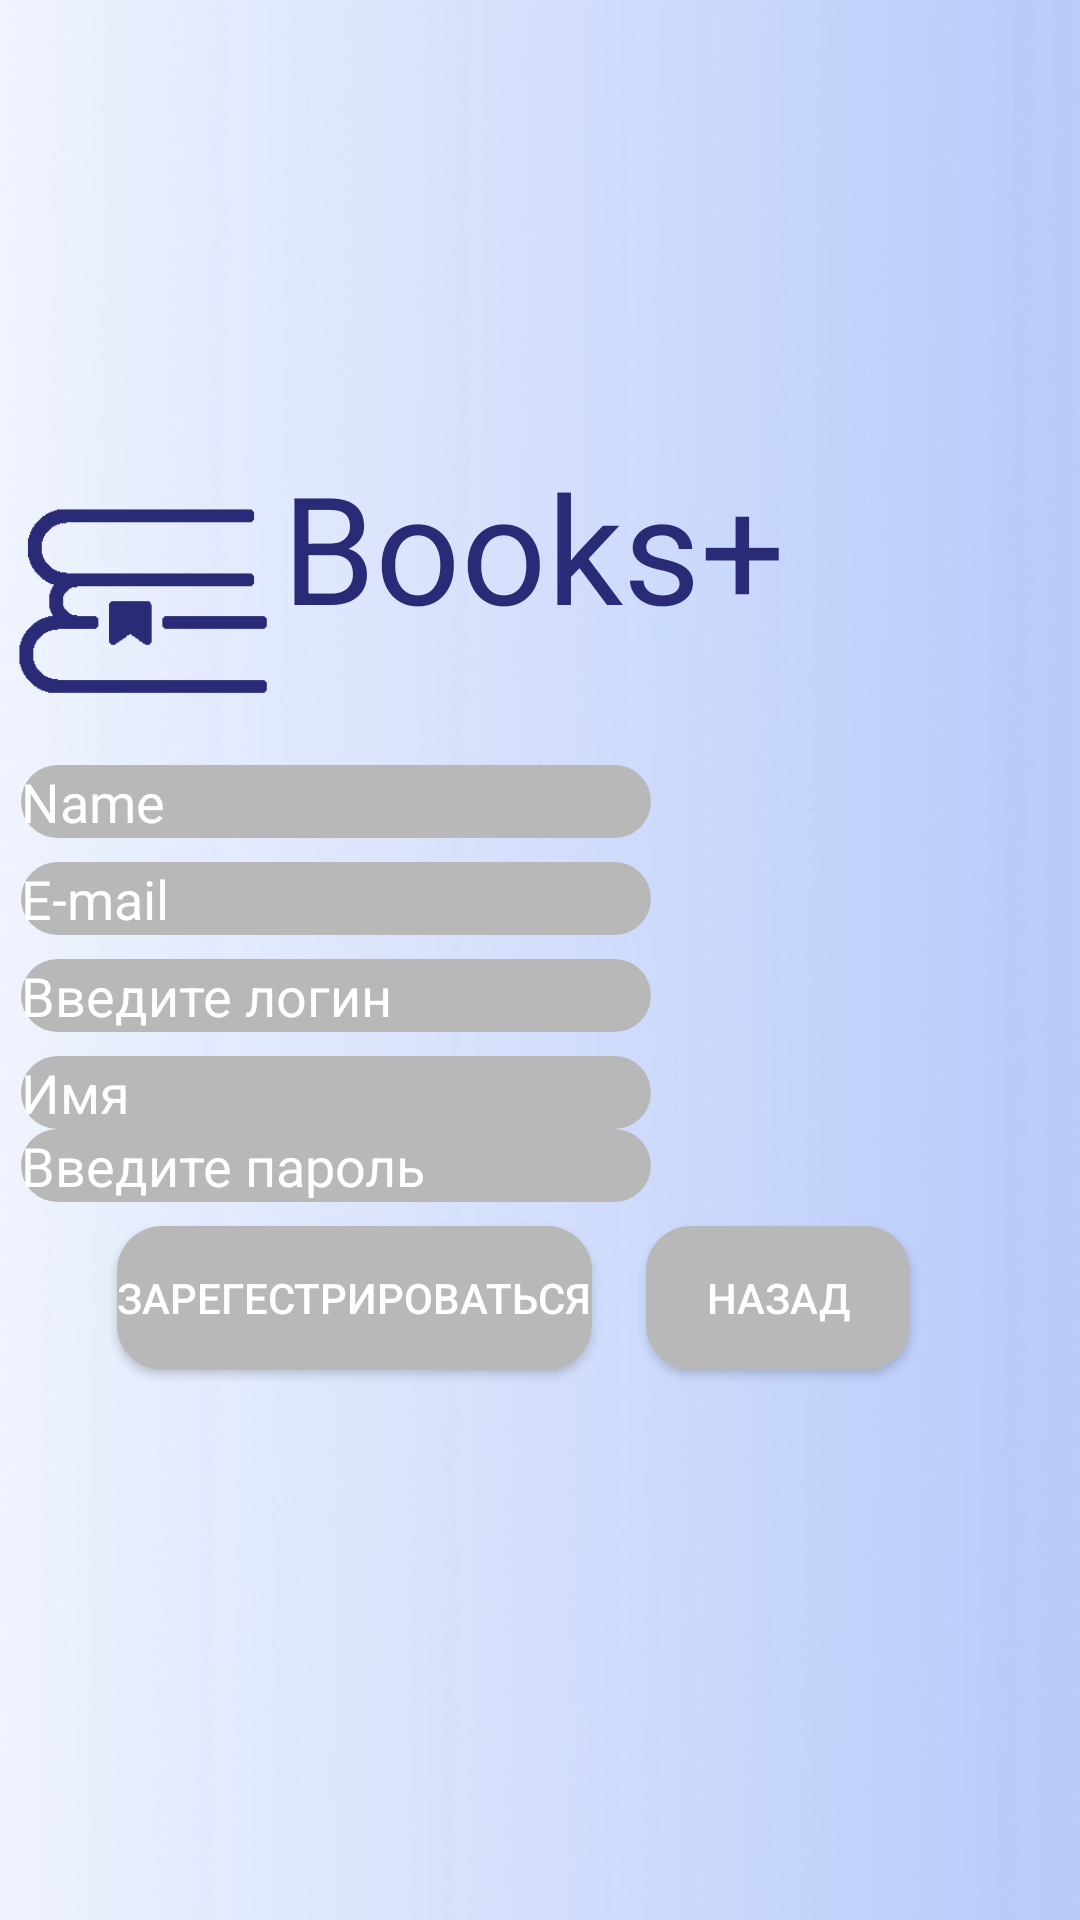

Where to tap for icons on this 1080x1920 app screen, as (x,y):
book plus: (143,601)
